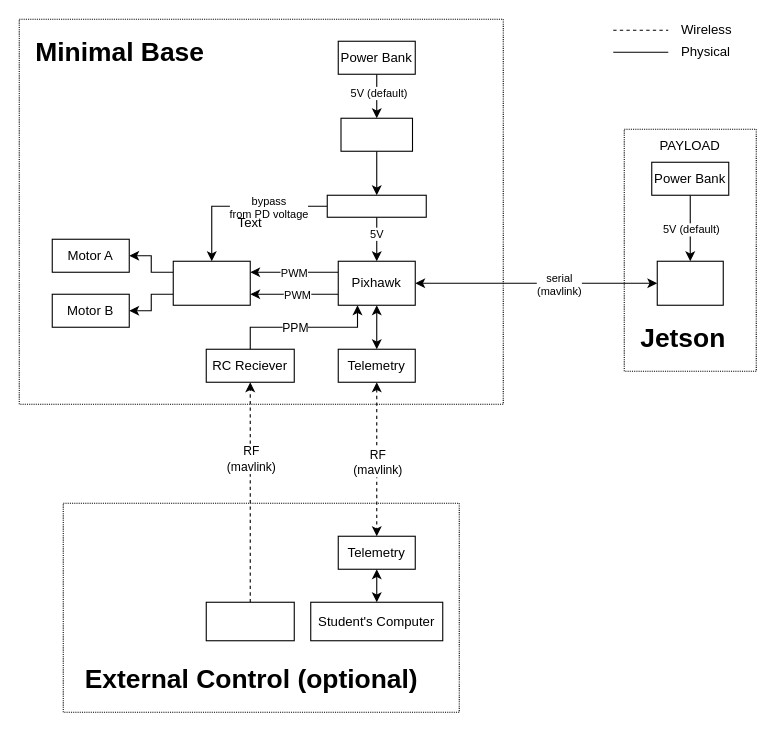
Some shapes in this 776 by 732 pixel diagram are drawn without their labels. The centre of each missing label's shape, as x and y in pixels:
Jetson Computer: [689,282]
Motor controller: [211,282]
PD voltage (9 volts): [376,134]
Power Module: [376,205]
RC Controller: [249,621]
